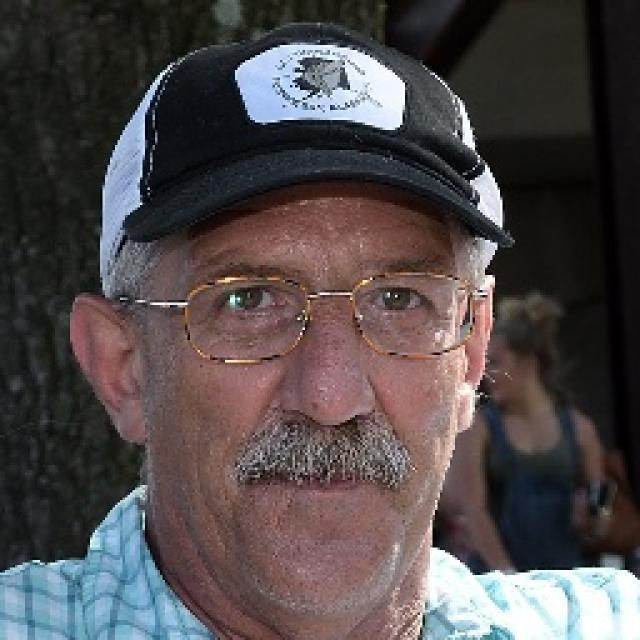earlobe: (110, 392, 148, 446), (456, 378, 478, 434)
eye: (215, 288, 288, 312), (367, 288, 426, 314)
nose: (281, 407, 374, 464)
wholeear: (69, 291, 149, 445), (455, 275, 497, 434)
